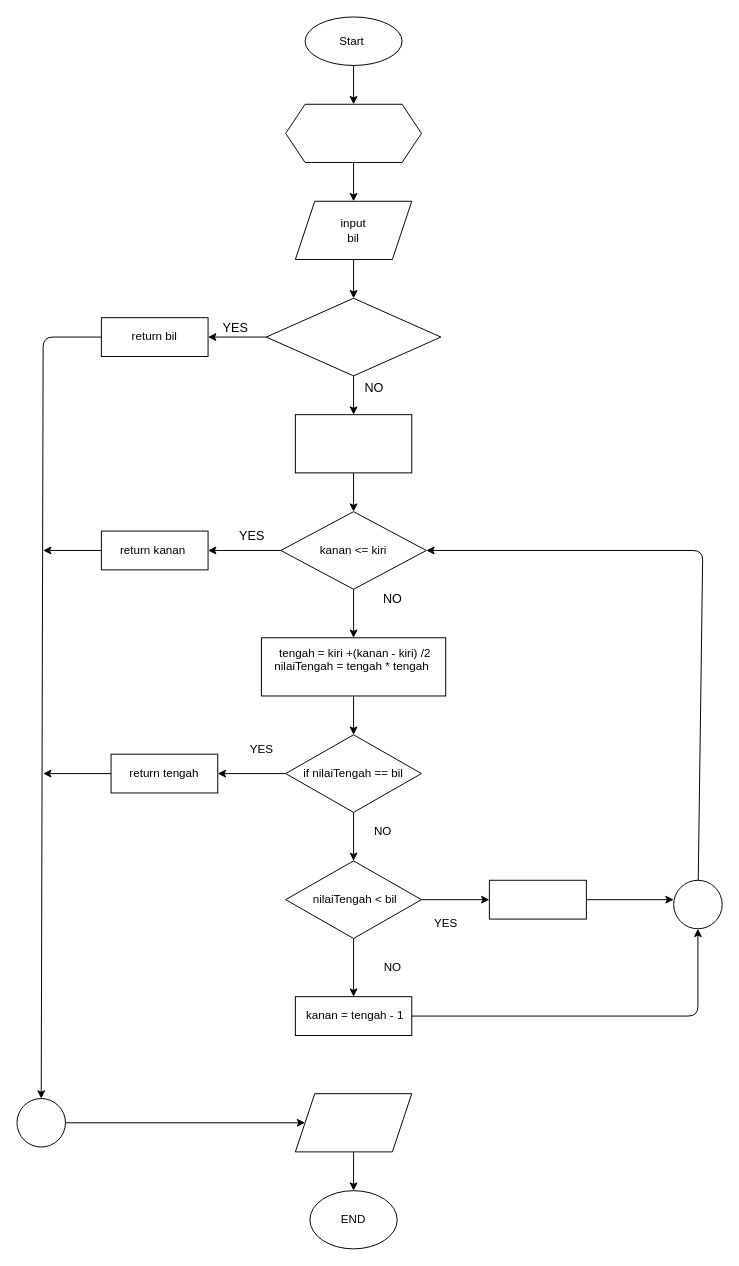
Some shapes in this 739 by 1266 pixel diagram are drawn without their labels. Here are the shapes that lost their labels. From the top down, the centre of each, then its label:
At (x=353, y=132): "int bil".
At (x=353, y=336): "if (bil == 0 || bil == 1)".
At (x=353, y=443): "int kiri = 0 int kanan = bil".
At (x=537, y=899): "kiri = tengah+ 1".
At (x=353, y=1122): "print".
